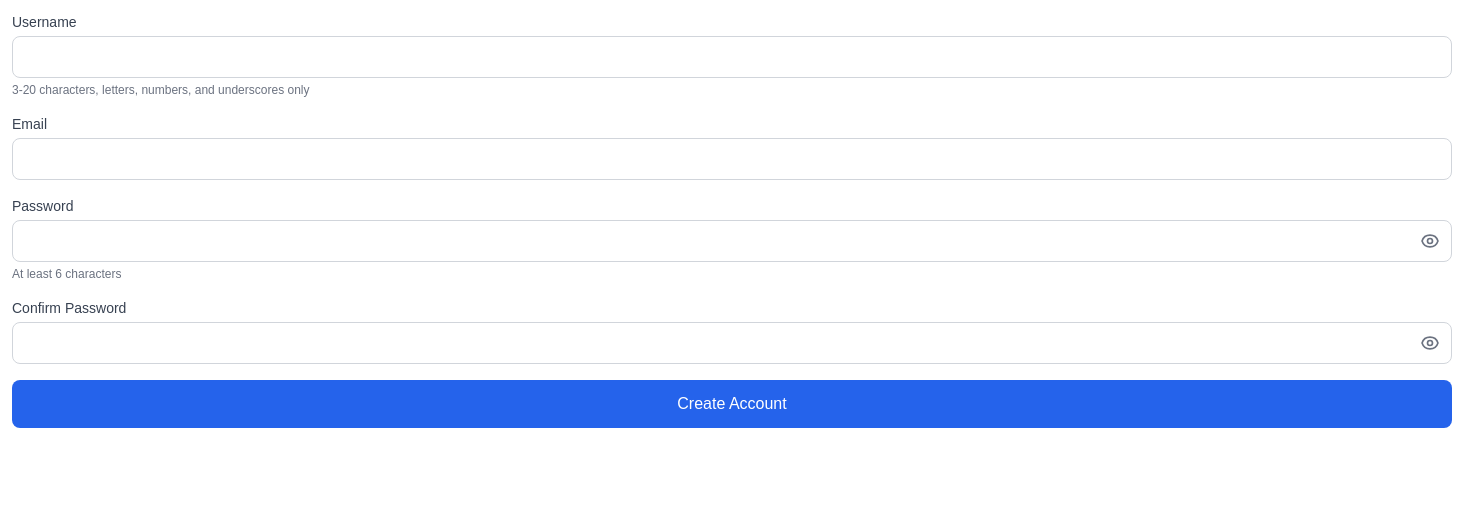
Test: SignupForm › validates password length
The image size is (1464, 507).
Type "testuser" into the field labelled "Username" at {"x": 732, "y": 57}, box [12,36,1452,78]
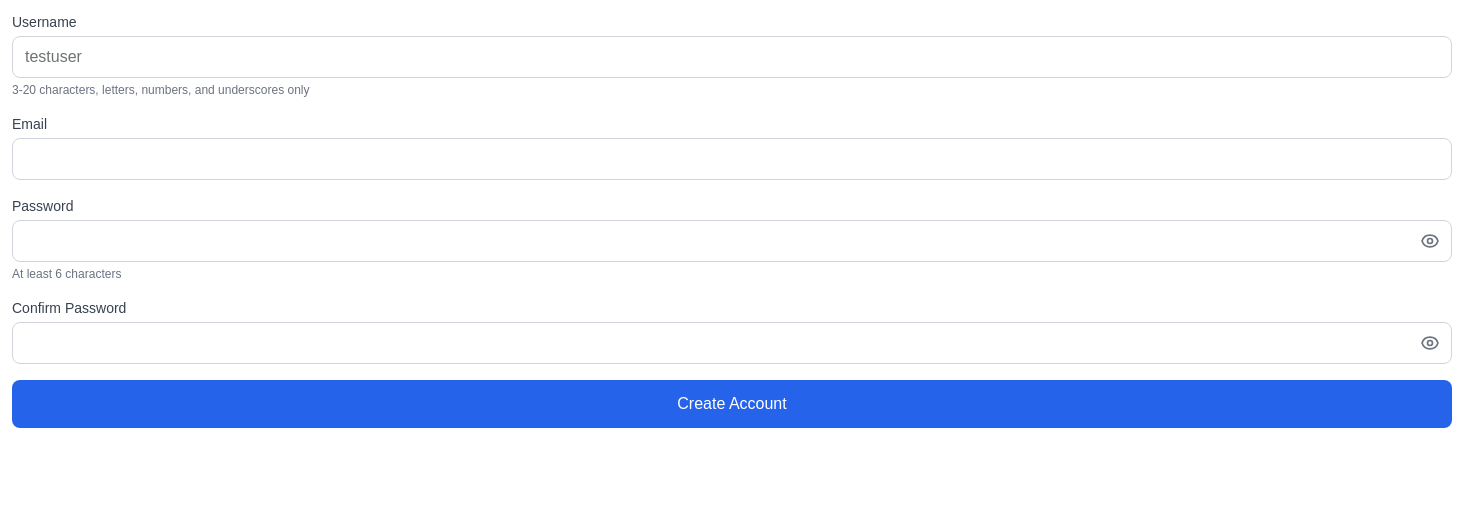
Type "test@example.com" into the field labelled "Email" at {"x": 732, "y": 159}, box [12,138,1452,180]
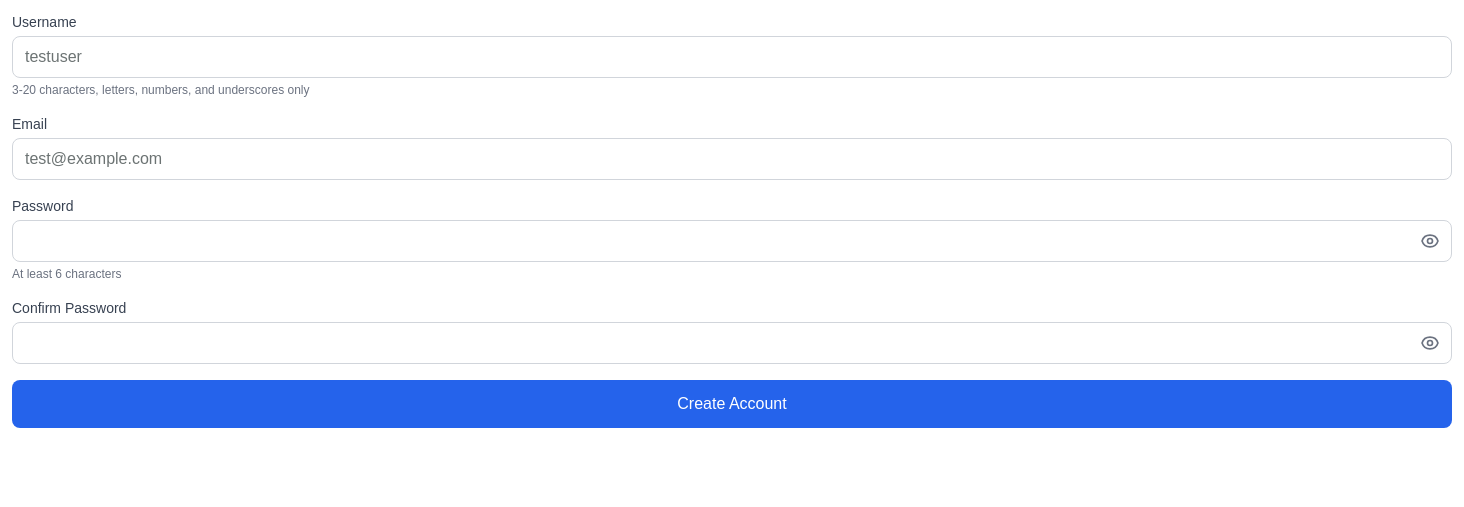
Type "12345" into the password field labelled "Password" at {"x": 732, "y": 241}, box [12,220,1452,262]
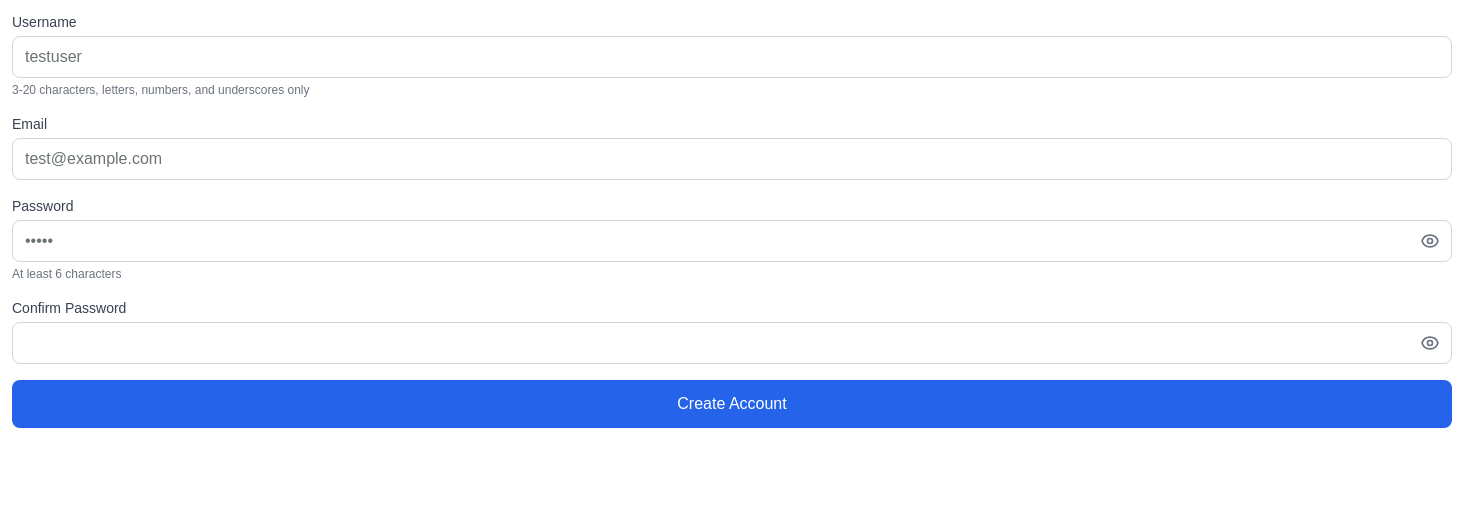
Type "12345" into the password field labelled "Confirm Password" at {"x": 732, "y": 343}, box [12,322,1452,364]
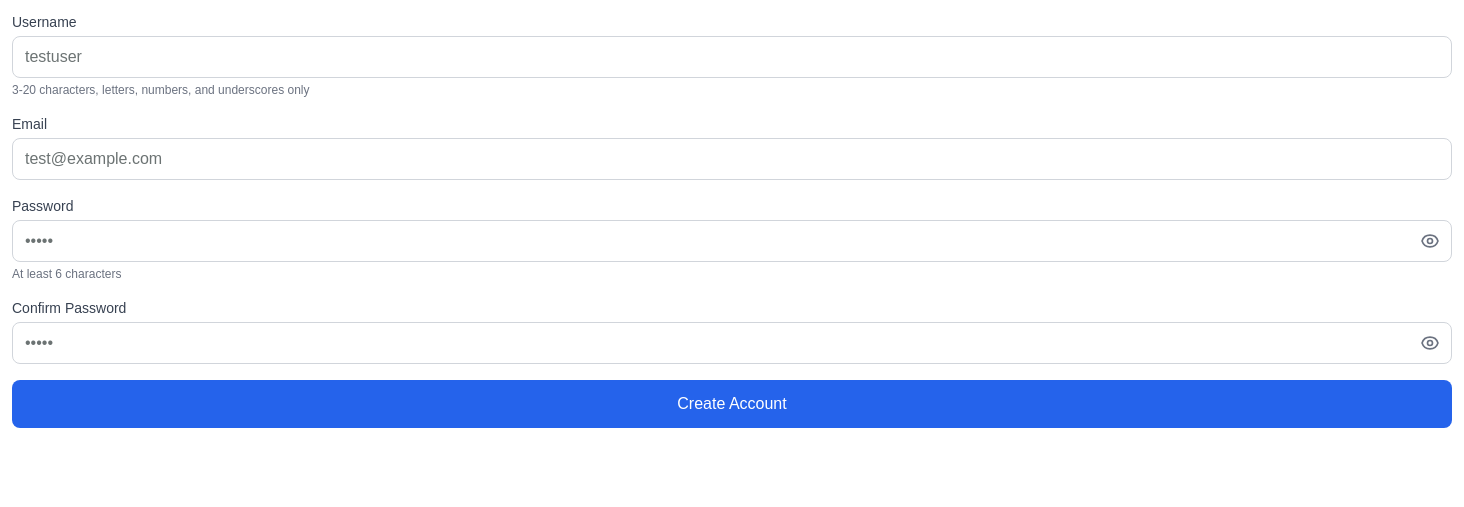
Click the button "Create Account" at {"x": 732, "y": 404}, box [12,380,1452,428]
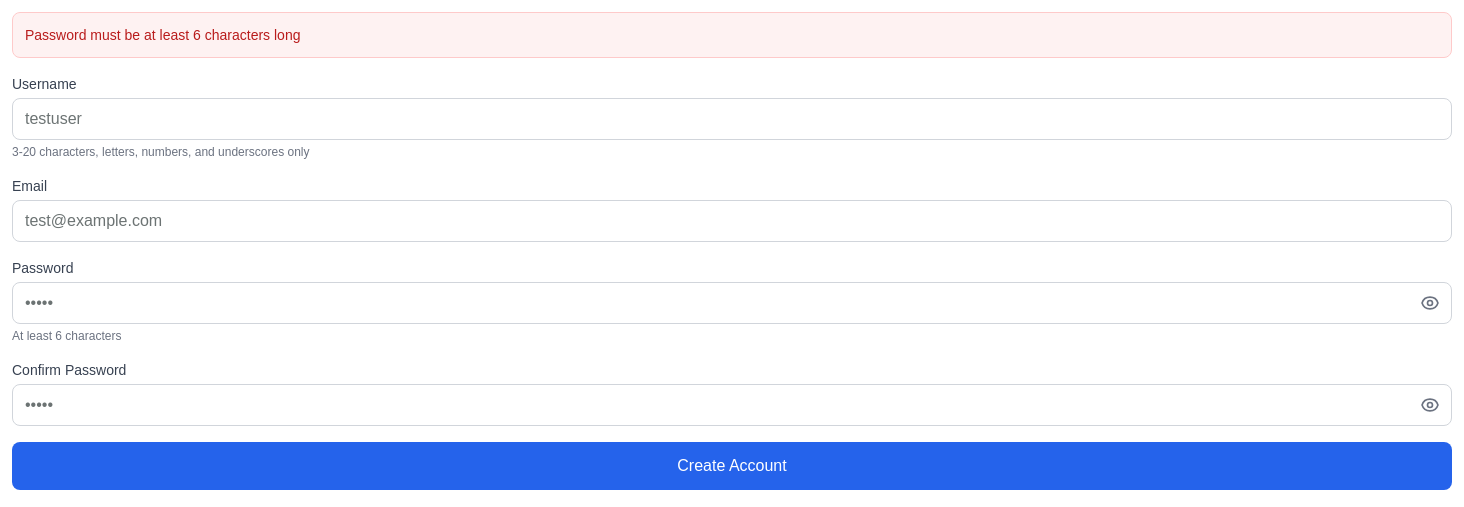
Expected: the text "Password must be at least 6 characters long" is shown, [12,12,1452,58]
